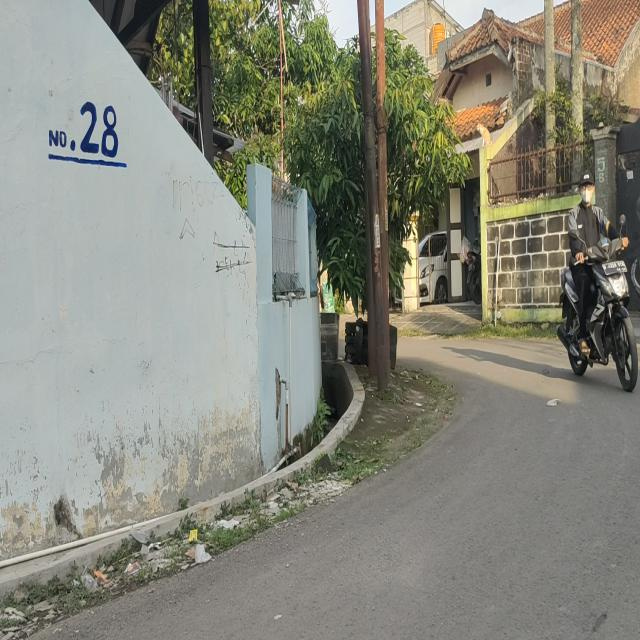no-helmet: (574, 169, 595, 206)
